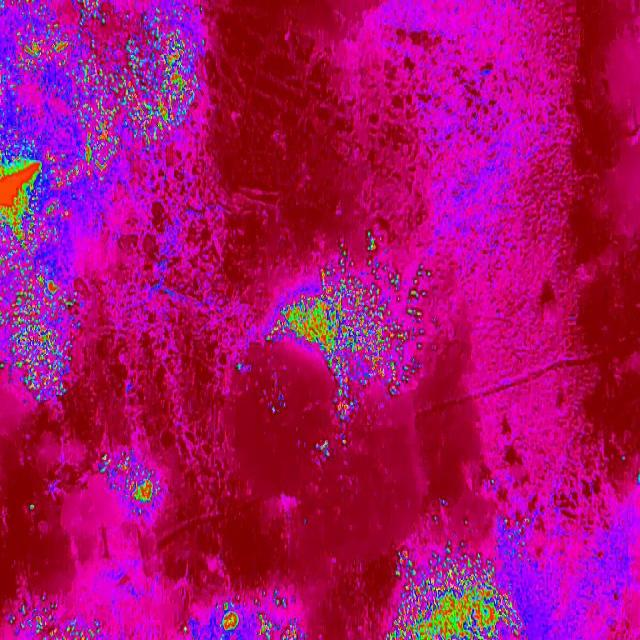fire: (0, 0, 119, 409), (269, 227, 436, 392), (379, 536, 528, 640), (119, 0, 214, 161), (178, 597, 310, 640), (0, 589, 109, 640), (96, 448, 166, 520), (332, 393, 359, 431)
